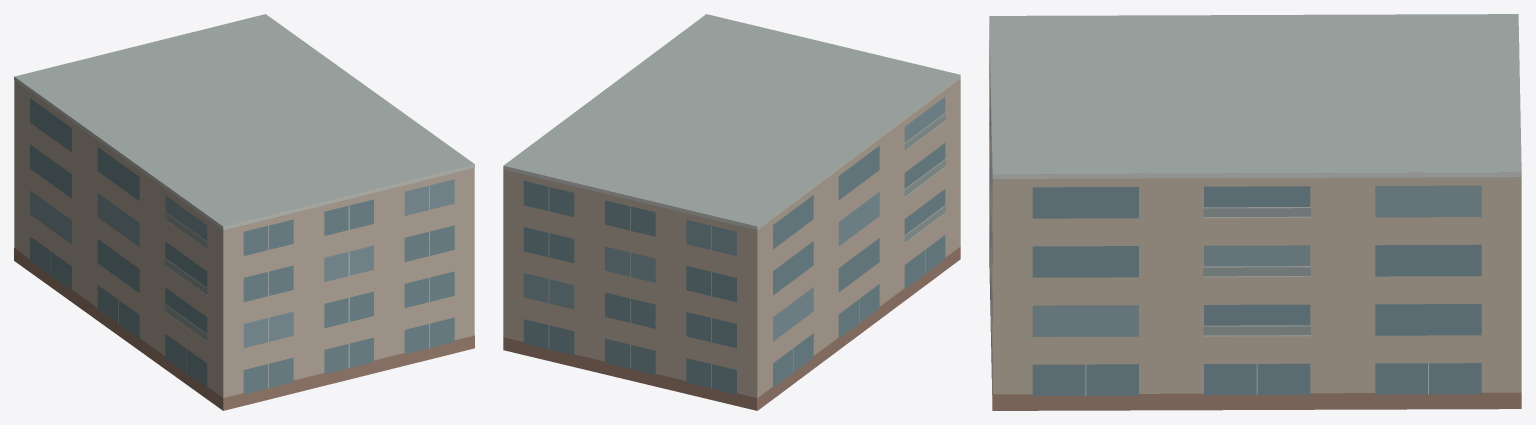
Rendered from residential-53bc262c-2935-43d6-9840-92ceb8c71e66.glb.
3 renders of one model, left to right at view 1: azimuth 30°, elevation 25°; view 2: azimuth 150°, elevation 25°; view 3: azimuth 270°, elevation 25°, orthographic. The views are drawn at different scales.
Parts seen in each view (by area): view 1: residential-53bc262c-2935-43d6-9840-92ceb8c71e66.tmp; view 2: residential-53bc262c-2935-43d6-9840-92ceb8c71e66.tmp; view 3: residential-53bc262c-2935-43d6-9840-92ceb8c71e66.tmp.
Part boxes in pixels (left/top/right/bottom): residential-53bc262c-2935-43d6-9840-92ceb8c71e66.tmp: left=14, top=14, right=474, bottom=410; residential-53bc262c-2935-43d6-9840-92ceb8c71e66.tmp: left=503, top=14, right=960, bottom=410; residential-53bc262c-2935-43d6-9840-92ceb8c71e66.tmp: left=989, top=14, right=1521, bottom=410.
Size of the model in its own units: 17.74 by 12.2 by 24.89.
